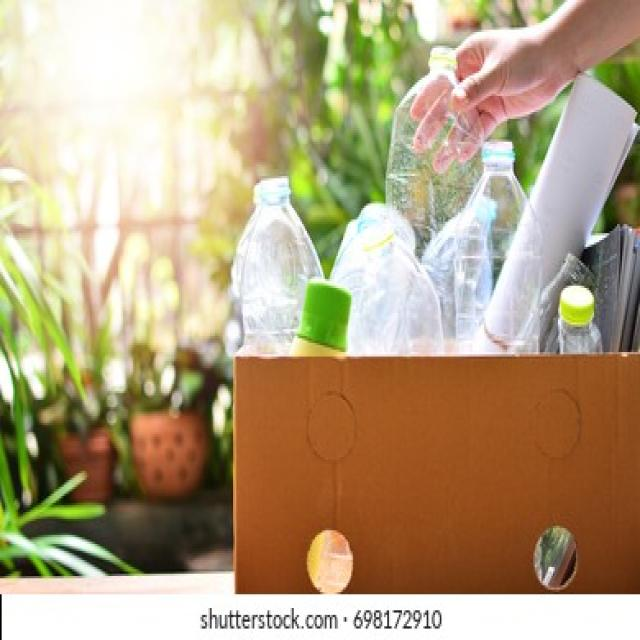paper: (560, 103, 622, 265)
plastic: (279, 187, 505, 343)
